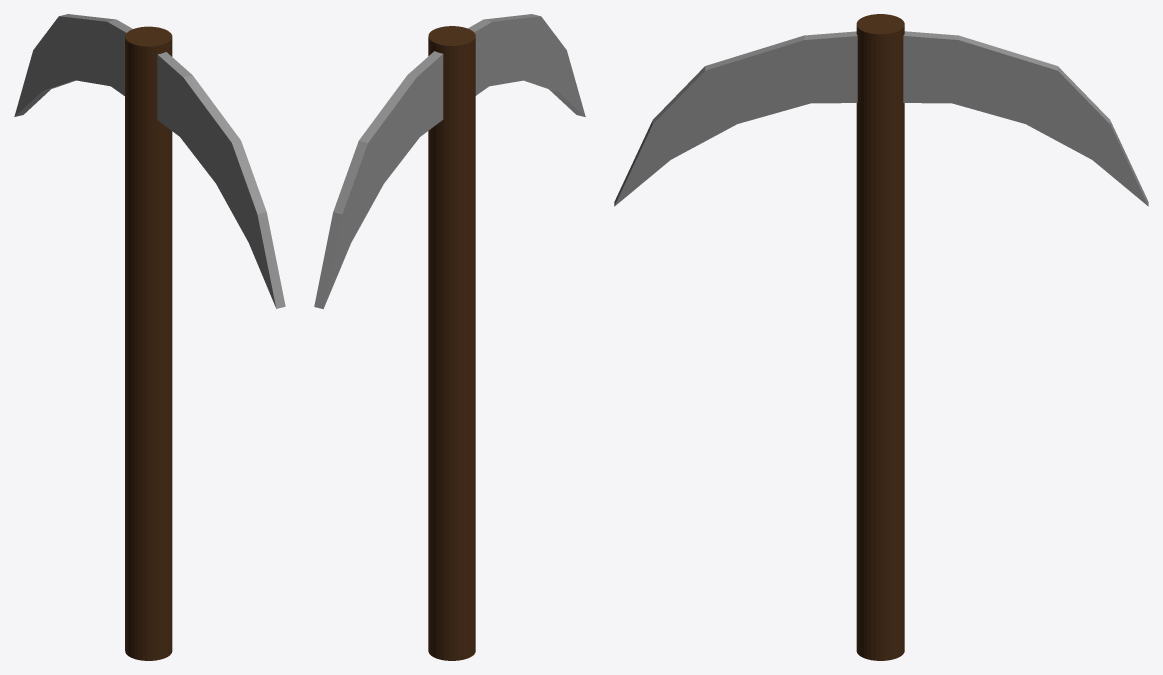
Rendered from Stone Pickaxe.fbx.
3 views of the same model, side by side, from view 1: azimuth 30°, elevation 25°; view 2: azimuth 150°, elevation 25°; view 3: azimuth 270°, elevation 25° (orthographic).
Visible parts, largest first — view 1: Cylinder.018; view 2: Cylinder.018; view 3: Cylinder.018.
Boxes of the visible parts, <box> form: Cylinder.018: <box>14,14,285,660</box>; Cylinder.018: <box>314,14,585,660</box>; Cylinder.018: <box>614,14,1148,660</box>.
Bounding box in the file's own units: 3.49 × 50 × 38.66.
